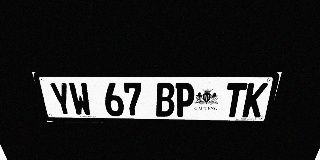6: (102, 82, 125, 116)
7: (122, 83, 143, 116)
B: (155, 83, 175, 117)
K: (242, 83, 268, 117)
P: (175, 83, 195, 117)
T: (223, 83, 248, 117)
W: (68, 82, 93, 116)
Y: (48, 82, 75, 116)
